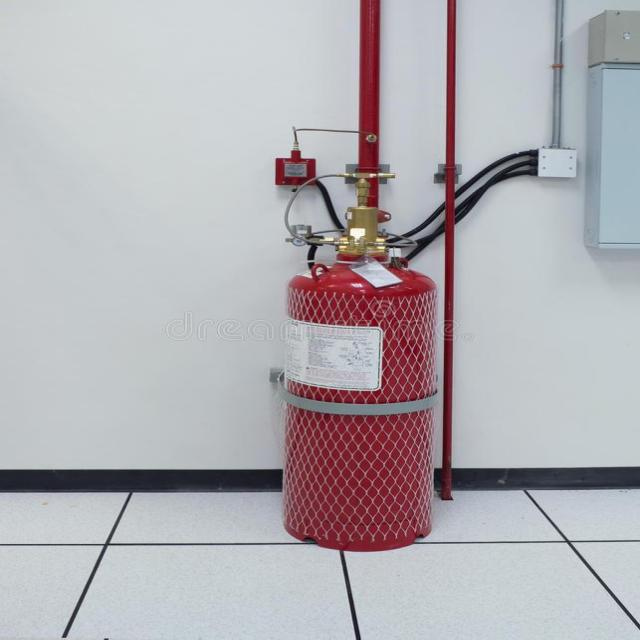fire_extinguisher: (273, 158, 452, 558)
